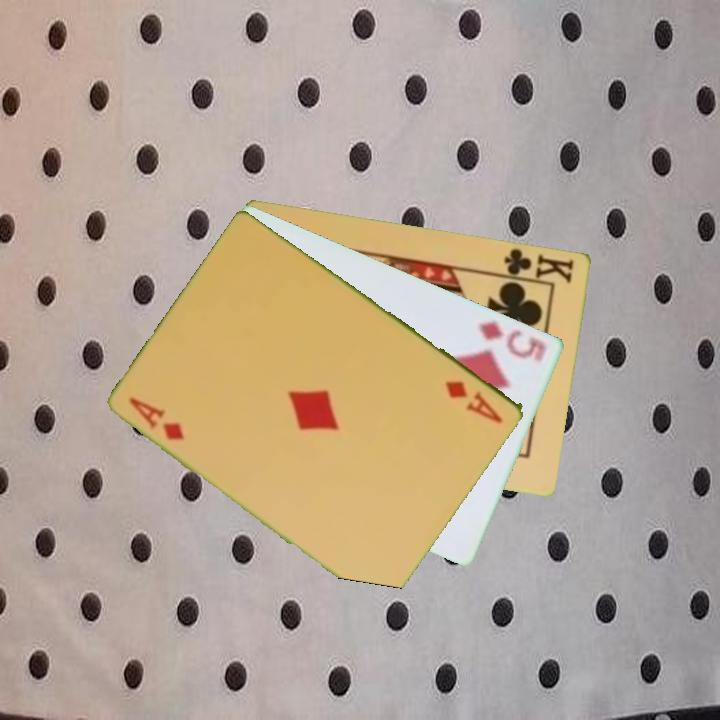5d: (475, 316, 551, 364)
Ad: (442, 377, 506, 427), (125, 393, 188, 443)
Kc: (495, 244, 577, 286)
